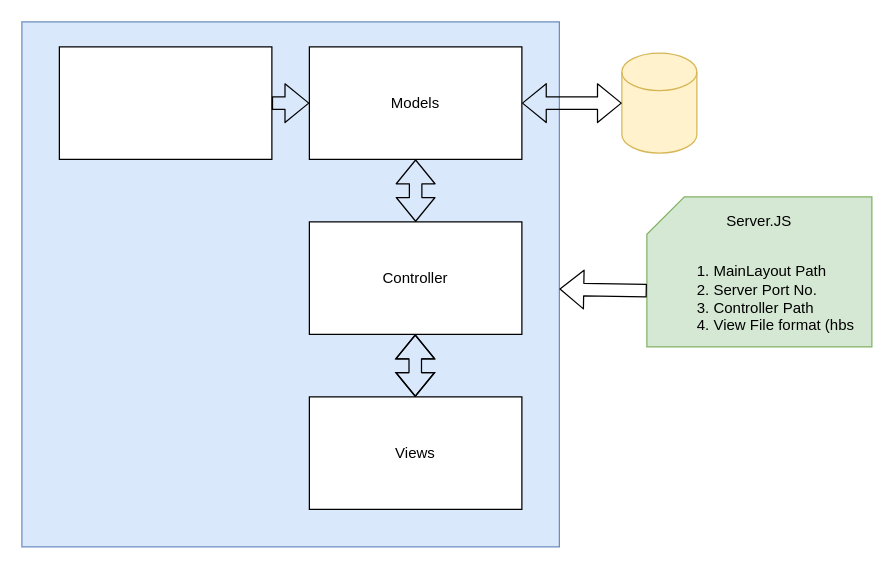
This 894x569 diagram has some shape labels left out. Each missing label, with the centre of its shape:
Constants: (165,102)
DB: (659,102)
